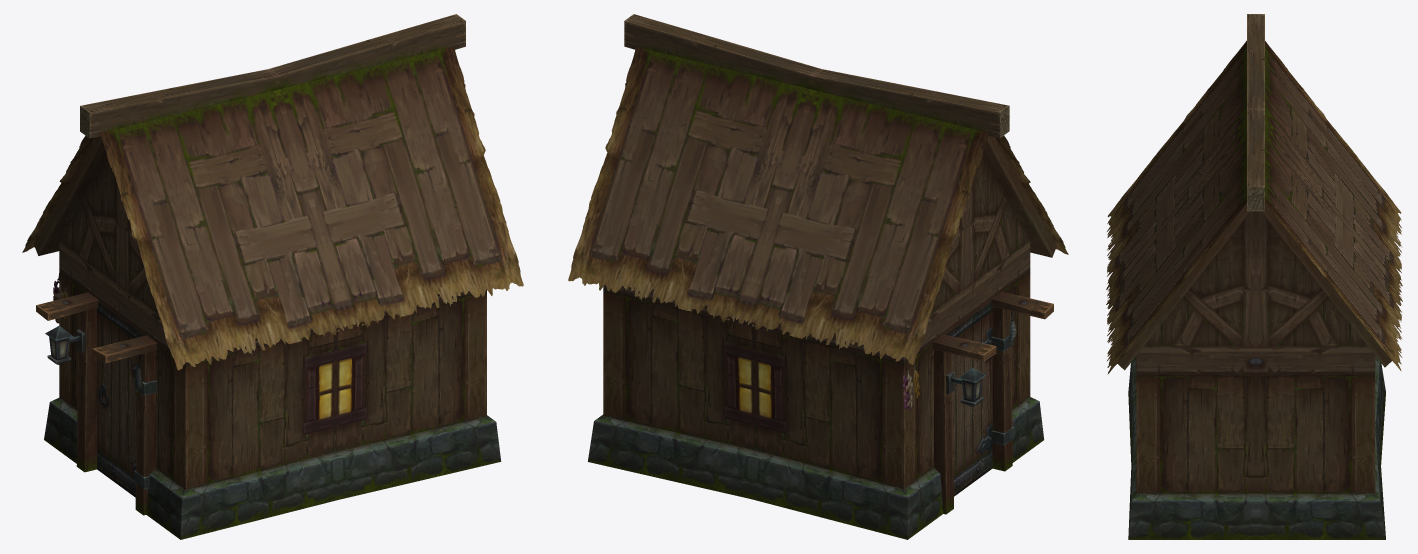
The model's file is building_yewai_aifang01.FBX.
3 views of the same model, side by side, from view 1: azimuth 30°, elevation 25°; view 2: azimuth 150°, elevation 25°; view 3: azimuth 270°, elevation 25° (orthographic). The views are drawn at different scales.
Visible parts, largest first — view 1: building_yewai_aifang01; view 2: building_yewai_aifang01; view 3: building_yewai_aifang01.
Part boxes in pixels (x1,y1,x2,y2): building_yewai_aifang01: (22, 14, 523, 539); building_yewai_aifang01: (568, 14, 1068, 539); building_yewai_aifang01: (1106, 14, 1402, 539).
Bounding box in the file's own units: 8.89 × 8.38 × 6.19.
